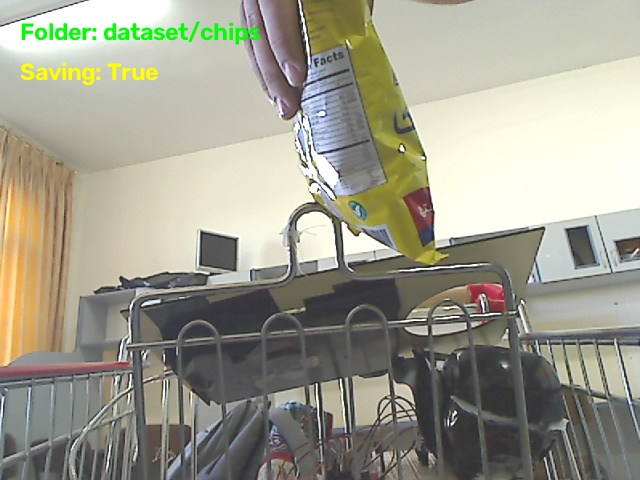chips: (294, 0, 443, 263)
